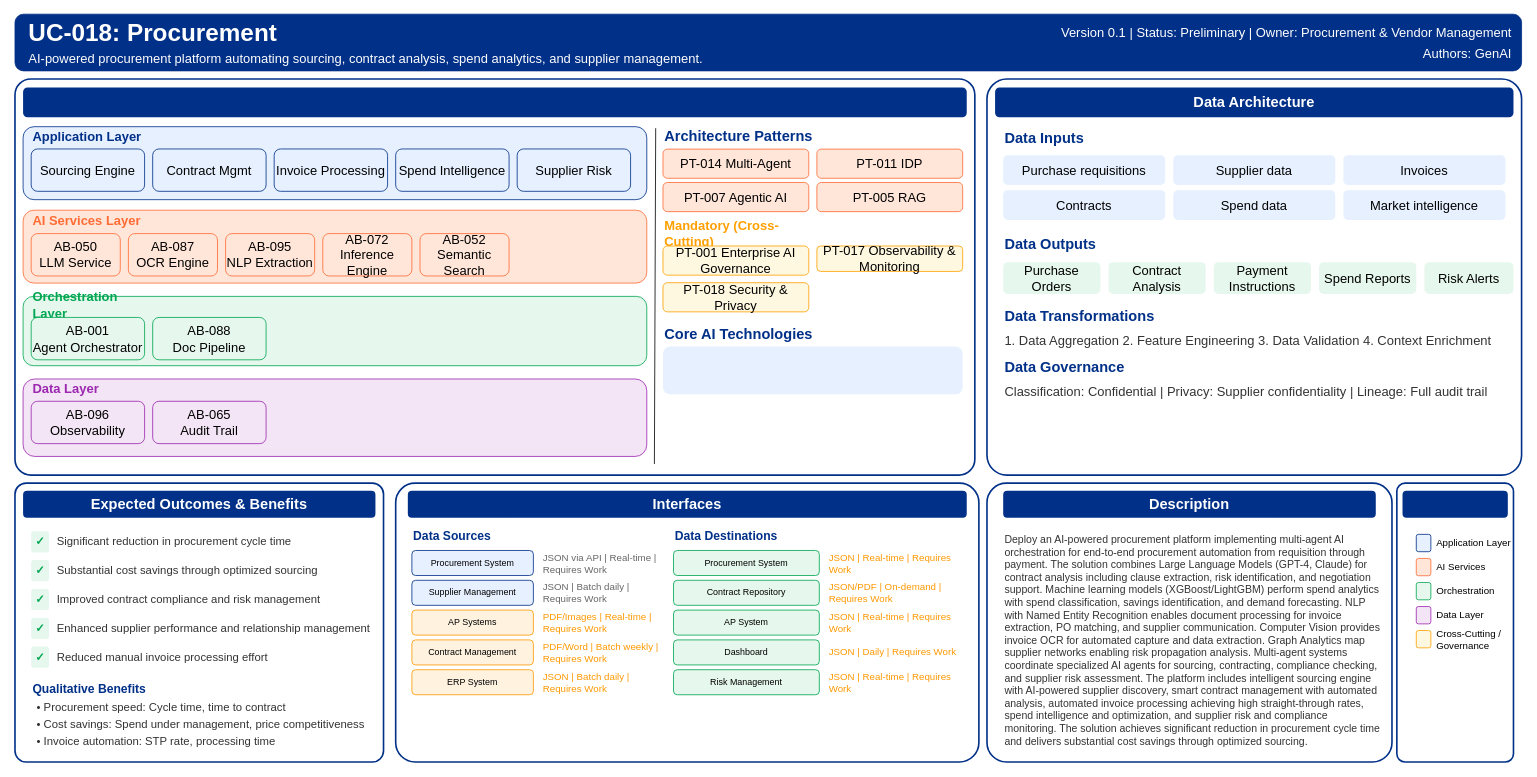
The diagram is 1537 pixels wide and 777 high, and some of its shapes have lost their labels. The shapes that lost their labels are listed below. From the top down, each one's centre as x and y in pixels, then its label:
the point at 494,102: Solution
the point at 812,370: GPT-4/Claude | XGBoost/LightGBM | Graph Analytics
the point at 1454,503: Legend
